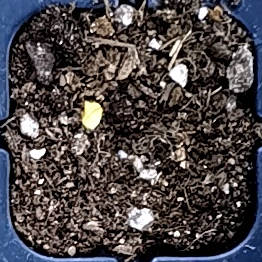pepper seed: (27, 33, 130, 164)
